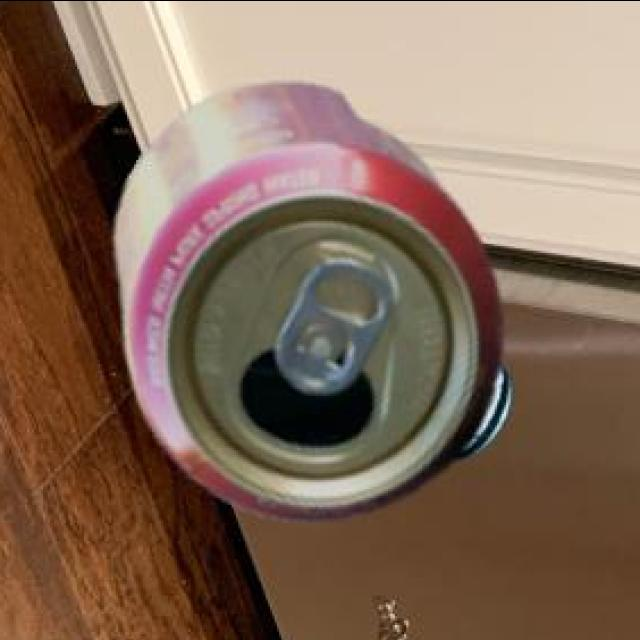logam: (119, 85, 505, 521), (457, 369, 516, 461)
